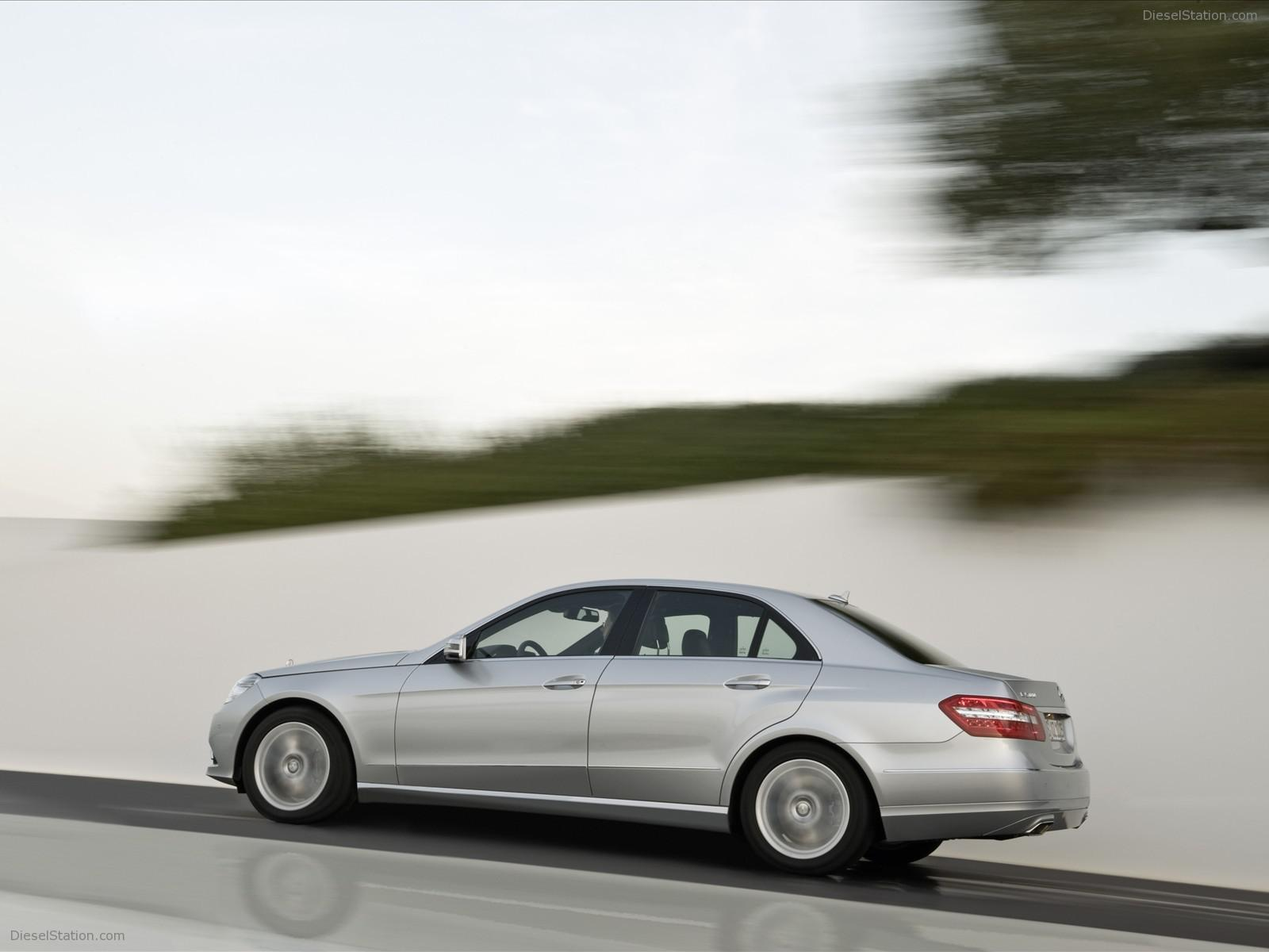Car: (165, 558, 1119, 902)
